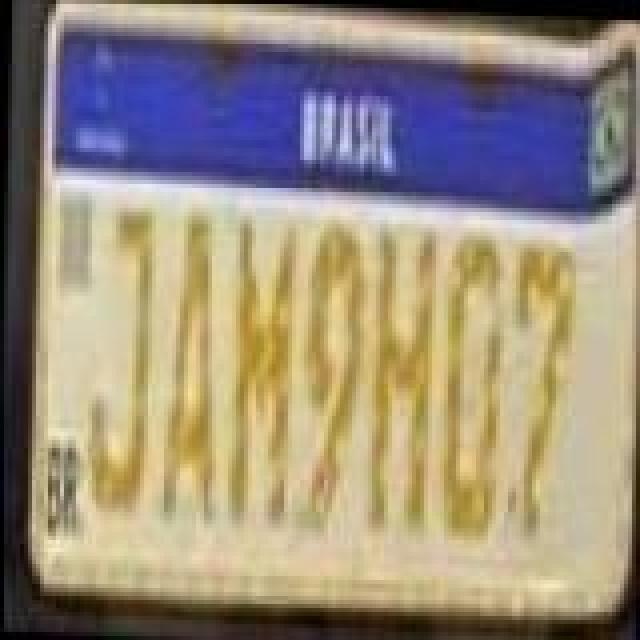7: (504, 240, 576, 540)
9: (290, 214, 366, 530)
A: (152, 202, 224, 522)
D: (434, 222, 510, 538)
H: (362, 212, 438, 536)
J: (84, 192, 156, 524)
M: (218, 200, 294, 536)
